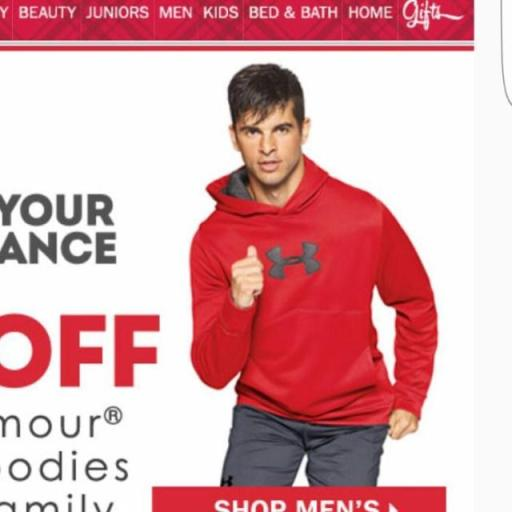Under Armour: (260, 238, 325, 286)
